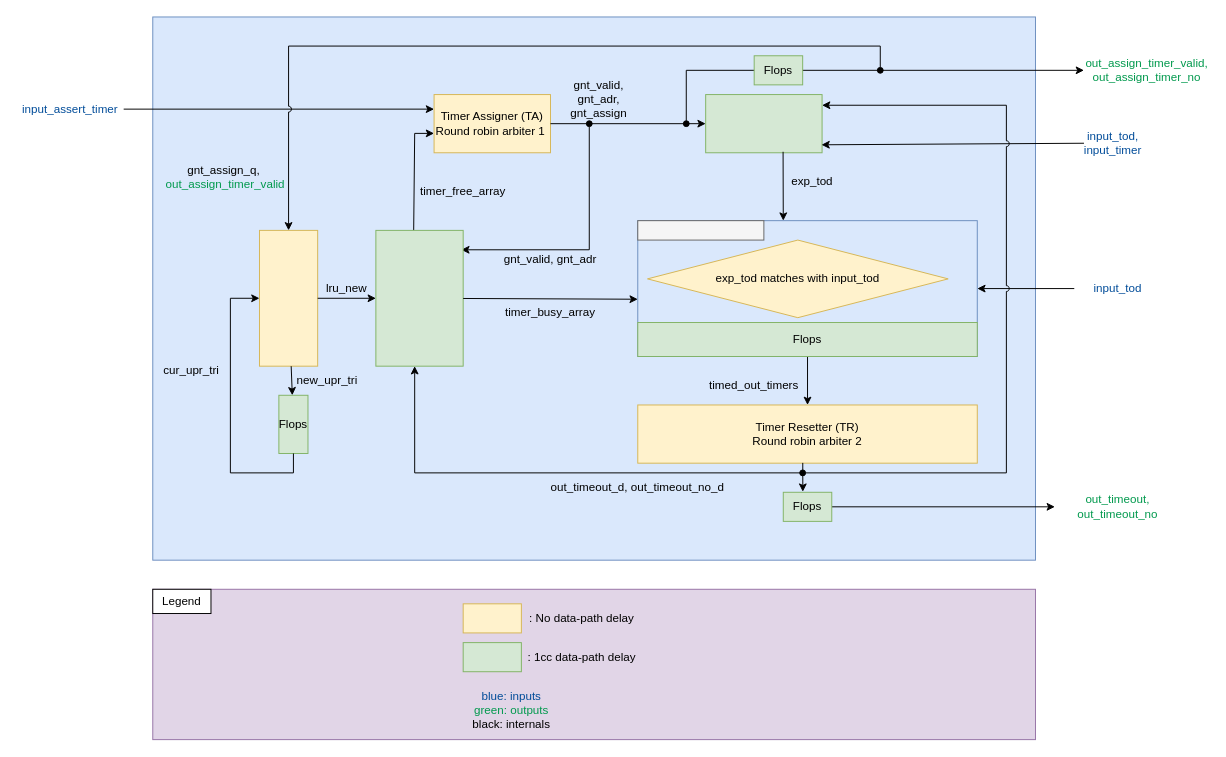
Image size: 1226x757. Some labels were removed from this diagram. Each missing label, with the centre of its shape:
ETOD Calculator (EC): [763,123]
LRU: [288,297]
Timed out timer (TOT): [700,230]
Timer Manager (TM): [419,297]
